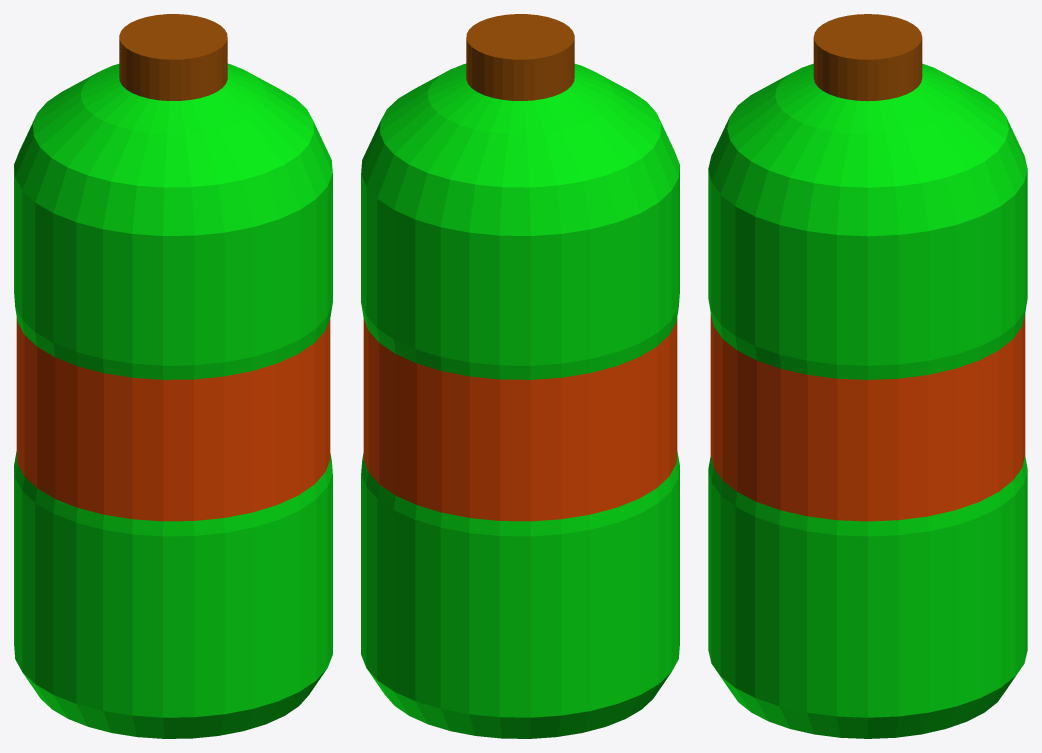
Rendered from botellaEnergetica.fbx.
3 renders of one model, left to right at view 1: azimuth 30°, elevation 25°; view 2: azimuth 150°, elevation 25°; view 3: azimuth 270°, elevation 25°, orthographic.
Visible parts, largest first — view 1: Cylinder; view 2: Cylinder; view 3: Cylinder.
Boxes of the visible parts, left/top/right/bottom form: Cylinder: left=14, top=14, right=332, bottom=738; Cylinder: left=361, top=14, right=679, bottom=738; Cylinder: left=708, top=14, right=1027, bottom=738.
Bounding box in the file's own units: 200 × 444 × 200.
